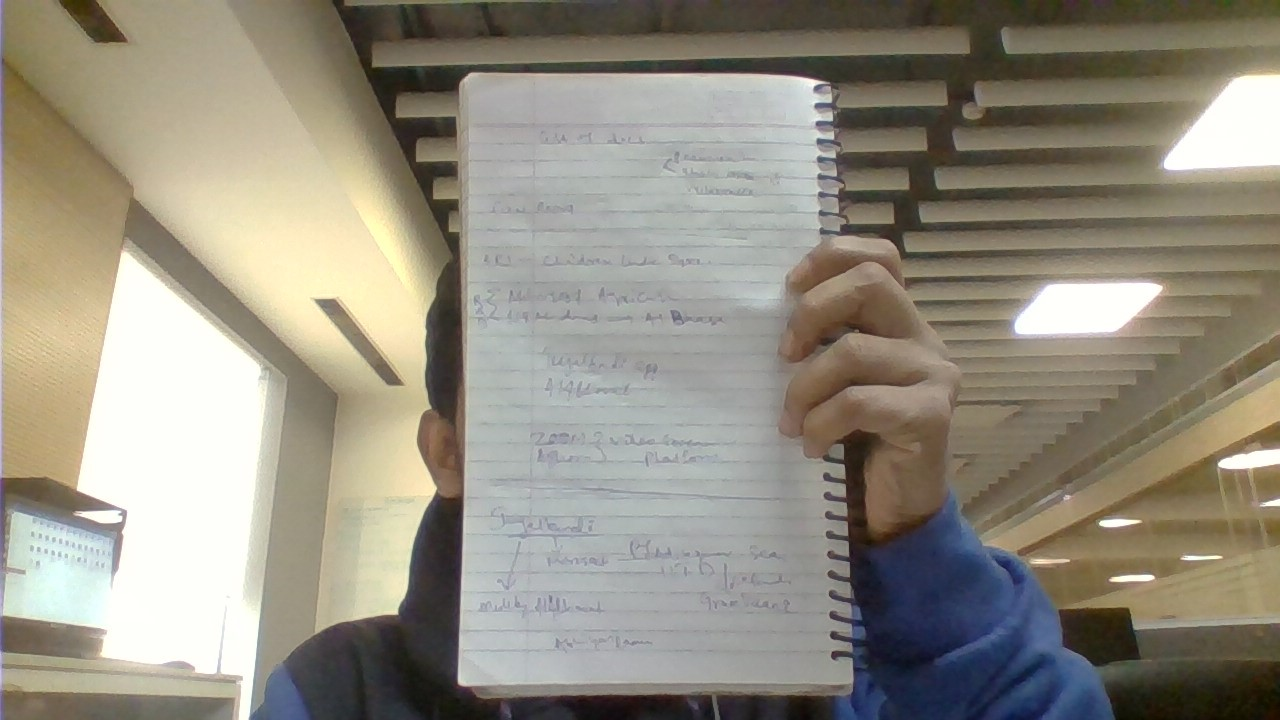notebook: (452, 66, 856, 691)
